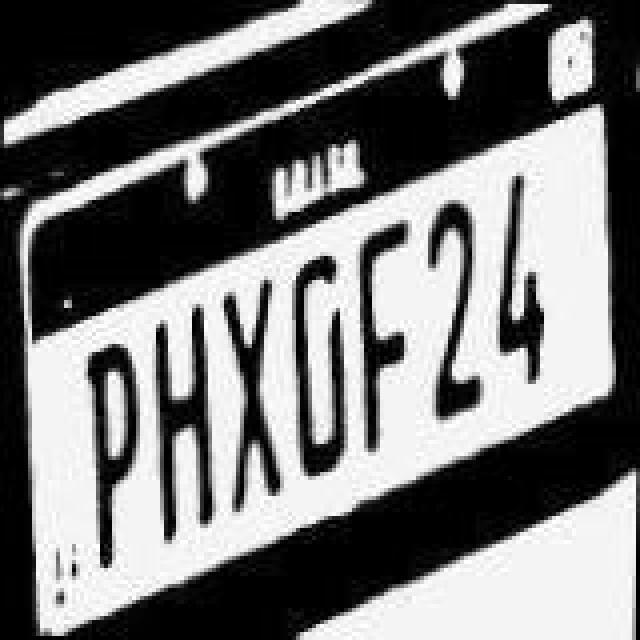2: (422, 196, 490, 424)
4: (488, 170, 552, 382)
D: (286, 254, 354, 482)
F: (356, 218, 412, 458)
H: (144, 304, 220, 548)
P: (76, 342, 144, 570)
X: (218, 274, 290, 514)
